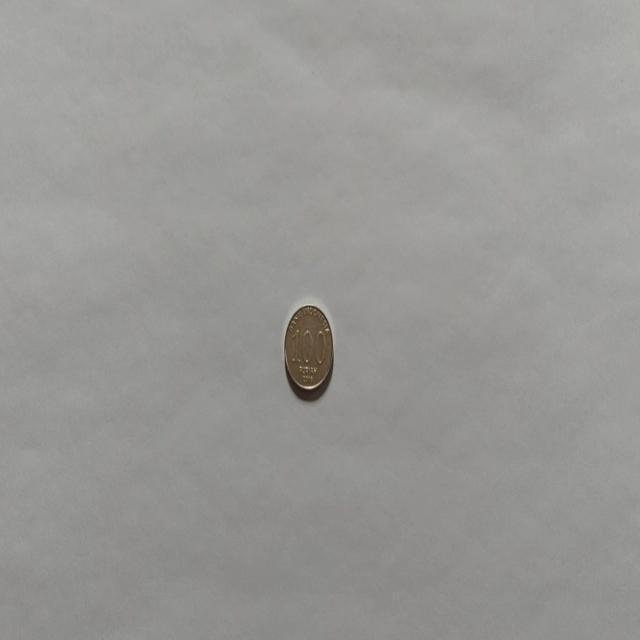seratus rupiah: (282, 302, 334, 393)
